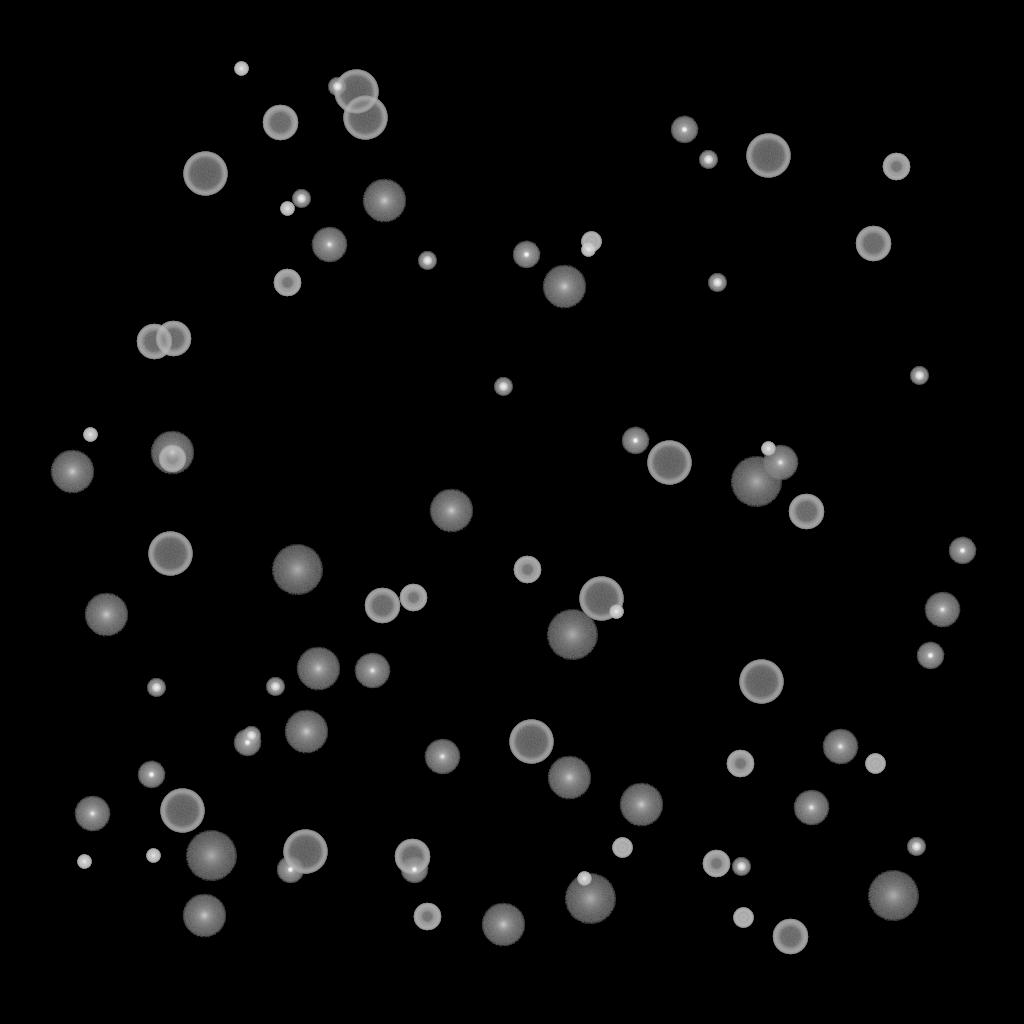depth:-10: (916, 642, 944, 670), (948, 537, 976, 565), (670, 116, 698, 144), (276, 856, 304, 884), (512, 241, 540, 269), (233, 729, 261, 757), (621, 427, 649, 455), (137, 761, 165, 789), (400, 856, 428, 884)
depth:-20: (418, 252, 436, 270), (494, 378, 512, 396), (292, 190, 310, 208), (266, 678, 284, 696), (328, 78, 346, 96), (907, 838, 925, 856), (732, 858, 750, 876), (708, 274, 726, 292), (147, 679, 165, 697), (699, 151, 717, 169), (910, 367, 928, 385), (242, 727, 260, 745)
depth:-30: (83, 428, 97, 442), (77, 855, 91, 869), (280, 202, 294, 216), (577, 872, 591, 886), (581, 243, 595, 257), (146, 849, 160, 863), (609, 605, 623, 619), (234, 62, 248, 76), (761, 442, 775, 456)
depth:-40: (612, 838, 632, 858), (581, 232, 601, 252), (865, 754, 885, 774), (733, 908, 753, 928)
depth:-50: (273, 269, 301, 297), (413, 903, 441, 931), (399, 584, 427, 612), (726, 750, 754, 778), (158, 445, 186, 473), (702, 850, 730, 878), (882, 153, 910, 181), (513, 556, 541, 584)
depth:-60: (262, 105, 298, 141), (155, 321, 191, 357), (788, 494, 824, 530), (136, 324, 172, 360), (394, 839, 430, 875), (855, 226, 891, 262), (772, 919, 808, 955), (364, 588, 400, 624)
depth:-70: (334, 70, 378, 114), (509, 720, 553, 764), (647, 441, 691, 485), (283, 830, 327, 874), (183, 152, 227, 196), (579, 577, 623, 621), (160, 789, 204, 833), (746, 134, 790, 178), (739, 660, 783, 704), (148, 532, 192, 576), (343, 96, 387, 140)
depth:0: (311, 227, 347, 263), (762, 445, 798, 481), (793, 790, 829, 826), (822, 729, 858, 765), (924, 592, 960, 628), (354, 653, 390, 689), (424, 739, 460, 775), (74, 796, 110, 832)
depth:10: (362, 179, 406, 223), (481, 903, 525, 947), (542, 265, 586, 309), (84, 593, 128, 637), (284, 710, 328, 754), (50, 450, 94, 494), (429, 489, 473, 533), (182, 894, 226, 938), (296, 647, 340, 691), (150, 431, 194, 475), (619, 783, 663, 827), (547, 756, 591, 800)
depth:20: (185, 831, 237, 881), (867, 871, 919, 921), (730, 457, 782, 507), (564, 874, 616, 924), (546, 610, 598, 660), (271, 545, 323, 595)
